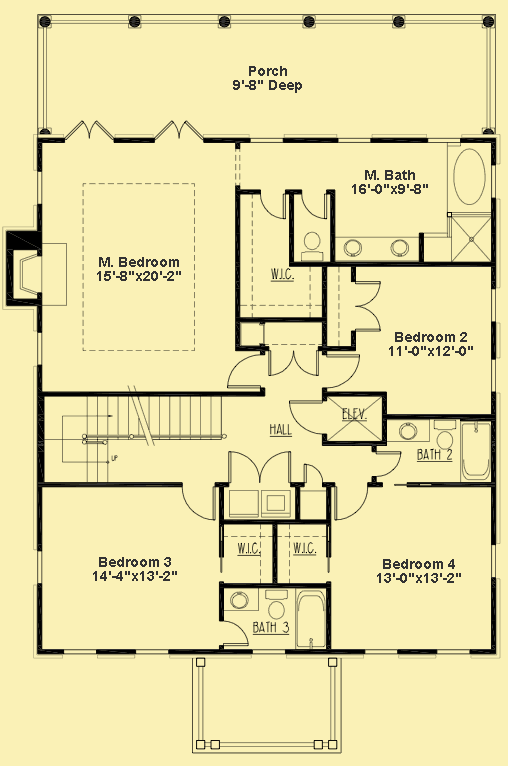door: (351, 278, 388, 336), (227, 452, 294, 484), (286, 397, 330, 439), (268, 350, 323, 383), (178, 482, 219, 524), (332, 482, 370, 526), (227, 354, 270, 391), (66, 120, 114, 149), (326, 349, 360, 389), (150, 118, 202, 144), (258, 187, 291, 224), (296, 190, 330, 224), (372, 449, 404, 480), (218, 618, 252, 646), (298, 459, 324, 488)
large_sink: (263, 588, 290, 621), (430, 419, 458, 450)
small_sink: (333, 235, 418, 263), (386, 419, 432, 446), (224, 586, 262, 614)
stairs: (41, 396, 226, 485)
tub: (449, 138, 492, 216), (458, 422, 492, 484), (294, 588, 327, 650)
window: (28, 328, 49, 369), (362, 642, 403, 662), (242, 131, 288, 147), (129, 646, 177, 661), (425, 133, 466, 150), (329, 133, 377, 146), (32, 164, 46, 208), (60, 647, 99, 662), (488, 537, 501, 581), (32, 546, 43, 590), (433, 648, 476, 659)
